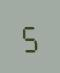five: (19, 20, 39, 52)
